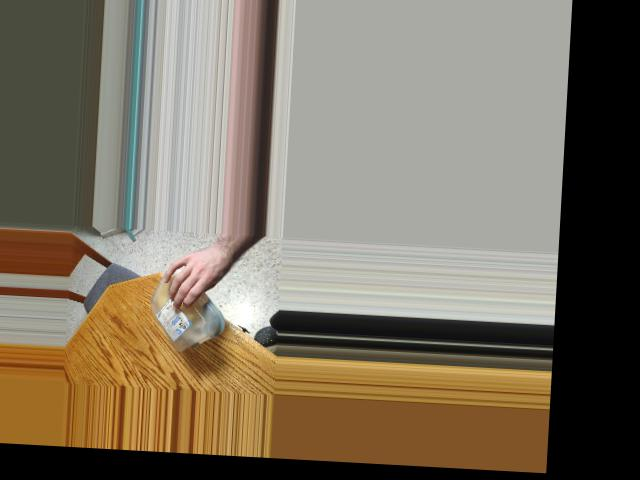cheese: (145, 256, 225, 354)
